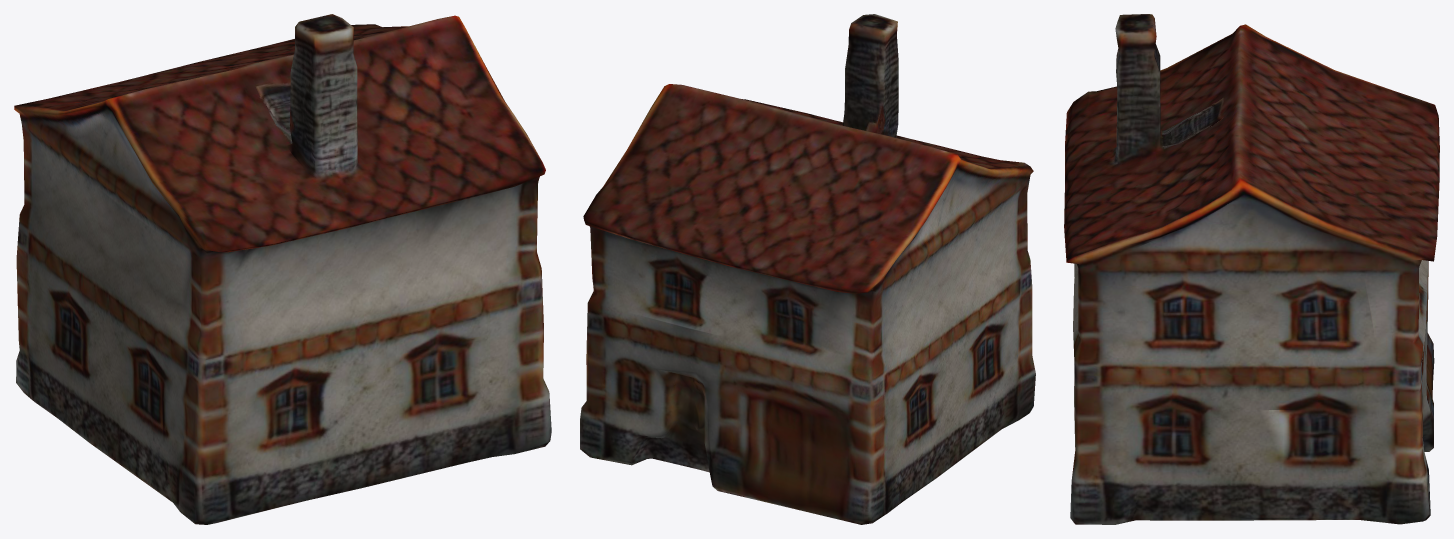
Rendered from House 3.fbx.
3 renders of one model, left to right at view 1: azimuth 30°, elevation 25°; view 2: azimuth 150°, elevation 25°; view 3: azimuth 270°, elevation 25°, orthographic. The views are drawn at different scales.
Parts seen in each view (by area): view 1: mesh; view 2: mesh; view 3: mesh.
Part boxes in pixels (left/top/right/bottom): mesh: left=14, top=14, right=551, bottom=524; mesh: left=580, top=14, right=1035, bottom=524; mesh: left=1064, top=14, right=1439, bottom=524.
Size of the model in its own units: 81.97 by 99.99 by 80.5.
